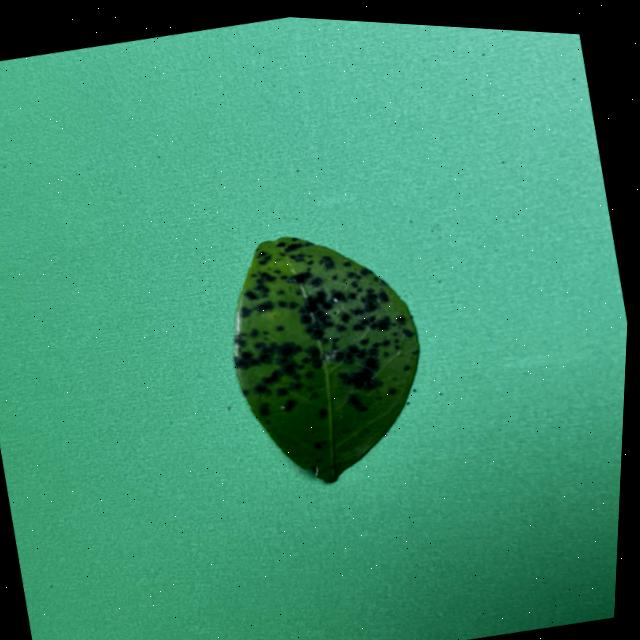sooty_mold: (234, 236, 418, 481)
